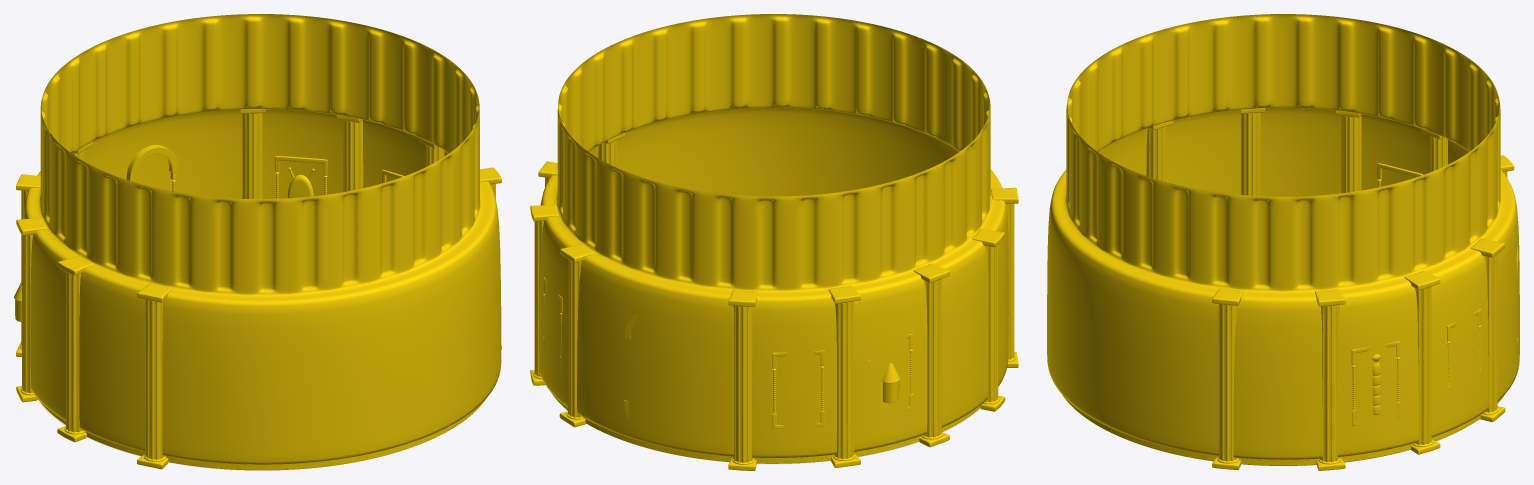
File: rophnan-scene (2).glb
3 views of the same model, side by side, from view 1: azimuth 30°, elevation 25°; view 2: azimuth 150°, elevation 25°; view 3: azimuth 270°, elevation 25° (orthographic).
Visible parts, largest first — view 1: room, pillar_9, pillar_8, pillar_7, pillar_4, pillar_3, shield_window, main_window, pillar_6; view 2: room, pillar_5, pillar_6, pillar_7, pillar_8, pillar_4, pillar_3, pillar_9, gojo_window, spear_window; view 3: room, pillar_1, pillar_2, pillar_3, pillar_4, pillar_8, pillar_7, axum_window, pillar_9, pillar_6.
Boxes of the visible parts, x1,y1,x2,y2 form: room: (23, 14, 501, 470); pillar_9: (137, 283, 172, 469); pillar_8: (57, 256, 93, 442); pillar_7: (16, 218, 47, 402); pillar_4: (240, 109, 265, 198); pillar_3: (336, 115, 363, 191); shield_window: (275, 156, 327, 198); main_window: (126, 144, 178, 191); pillar_6: (16, 174, 40, 357); room: (539, 14, 1008, 464); pillar_5: (728, 290, 757, 470); pillar_6: (828, 285, 860, 467); pillar_7: (913, 263, 949, 447); pillar_8: (971, 229, 1005, 411); pillar_4: (559, 244, 595, 427); pillar_3: (530, 205, 558, 385); pillar_9: (990, 187, 1018, 367); gojo_window: (868, 333, 913, 410); spear_window: (772, 350, 824, 428); room: (1047, 14, 1519, 465); pillar_1: (1212, 288, 1243, 470); pillar_2: (1315, 289, 1345, 470); pillar_3: (1404, 270, 1440, 454); pillar_4: (1470, 238, 1505, 422); pillar_8: (1239, 108, 1264, 196); pillar_7: (1336, 110, 1361, 193); axum_window: (1351, 341, 1400, 425); pillar_9: (1146, 120, 1173, 181); pillar_6: (1421, 128, 1447, 172).
Size of the model in its own units: 33.64 by 20.16 by 32.76.
